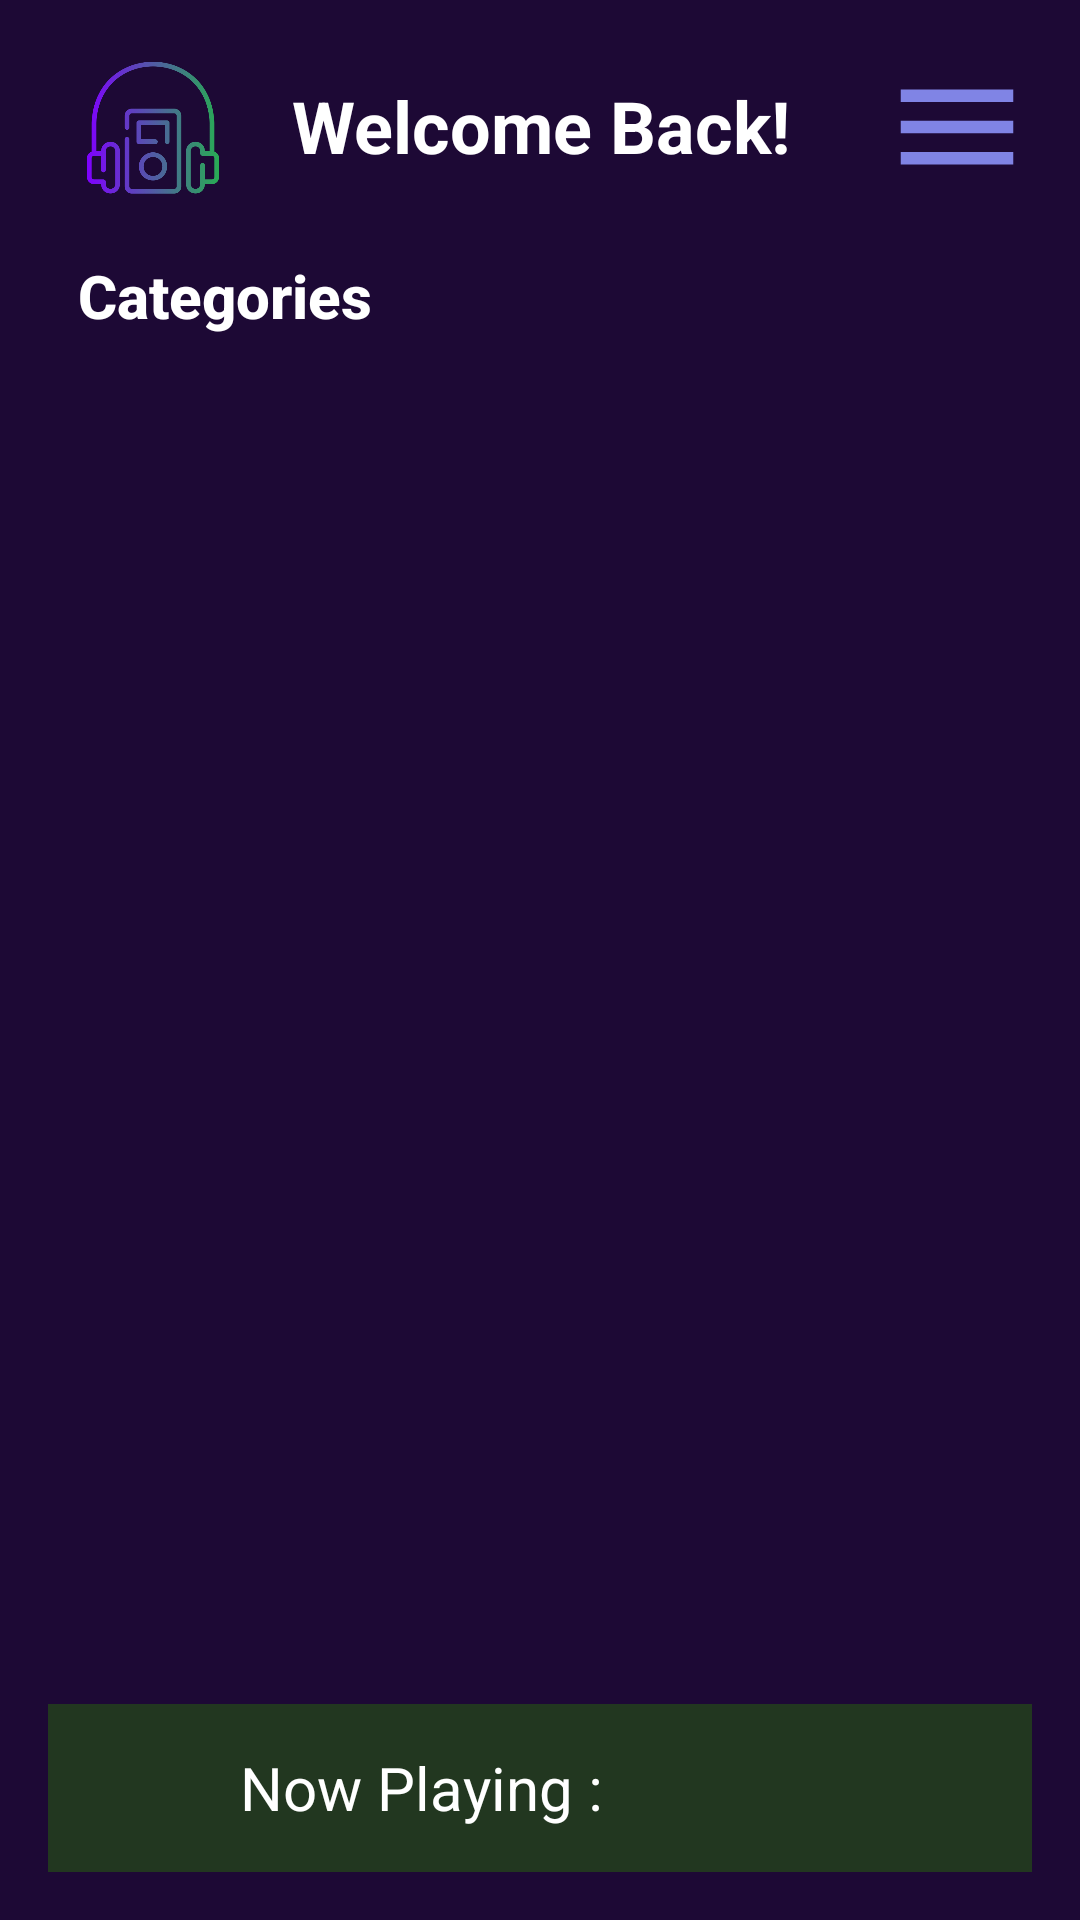

Where to tap for icons on this 1080*1920 app screen, as (x=x, y=y):
menu: (x=957, y=127)
mpplayer: (x=153, y=128)
